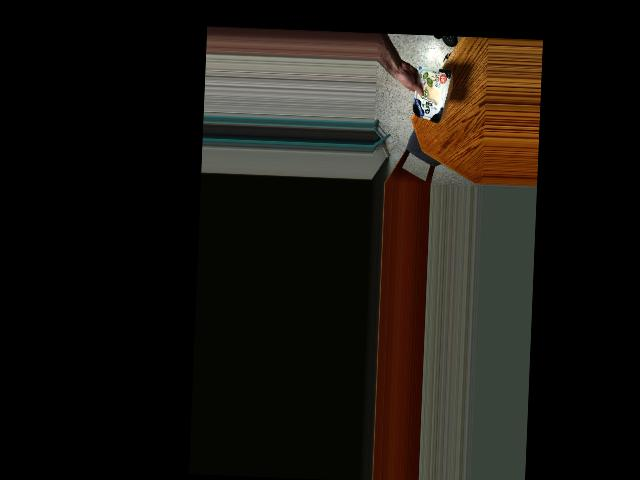cheese: (409, 62, 446, 124)
